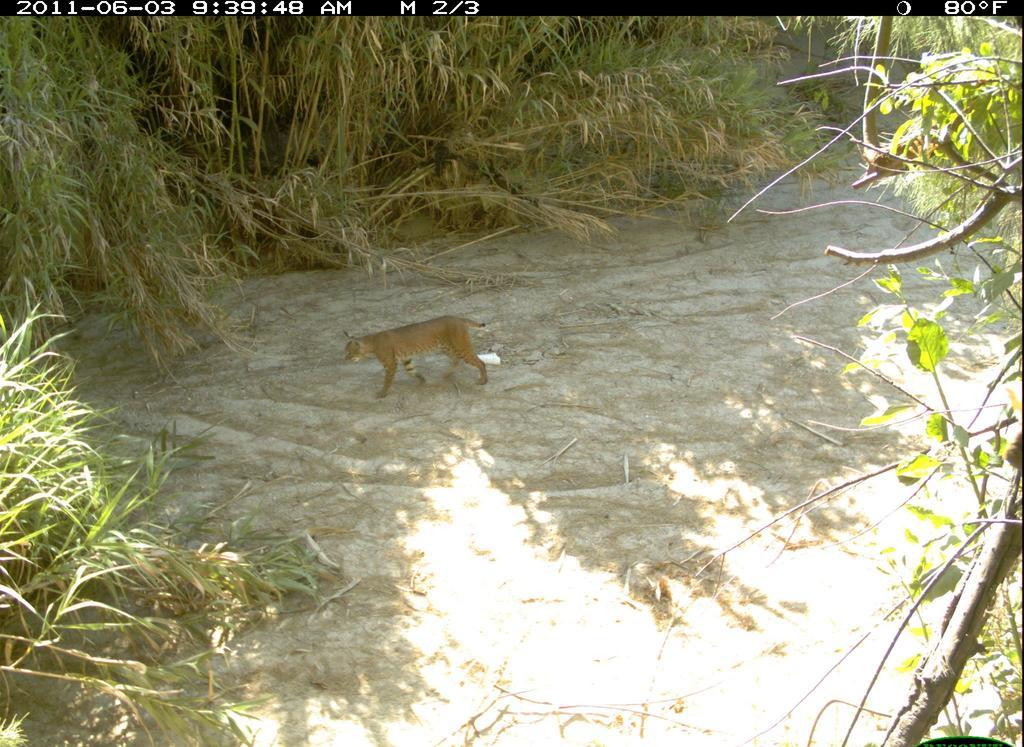bobcat: (331, 306, 509, 406)
